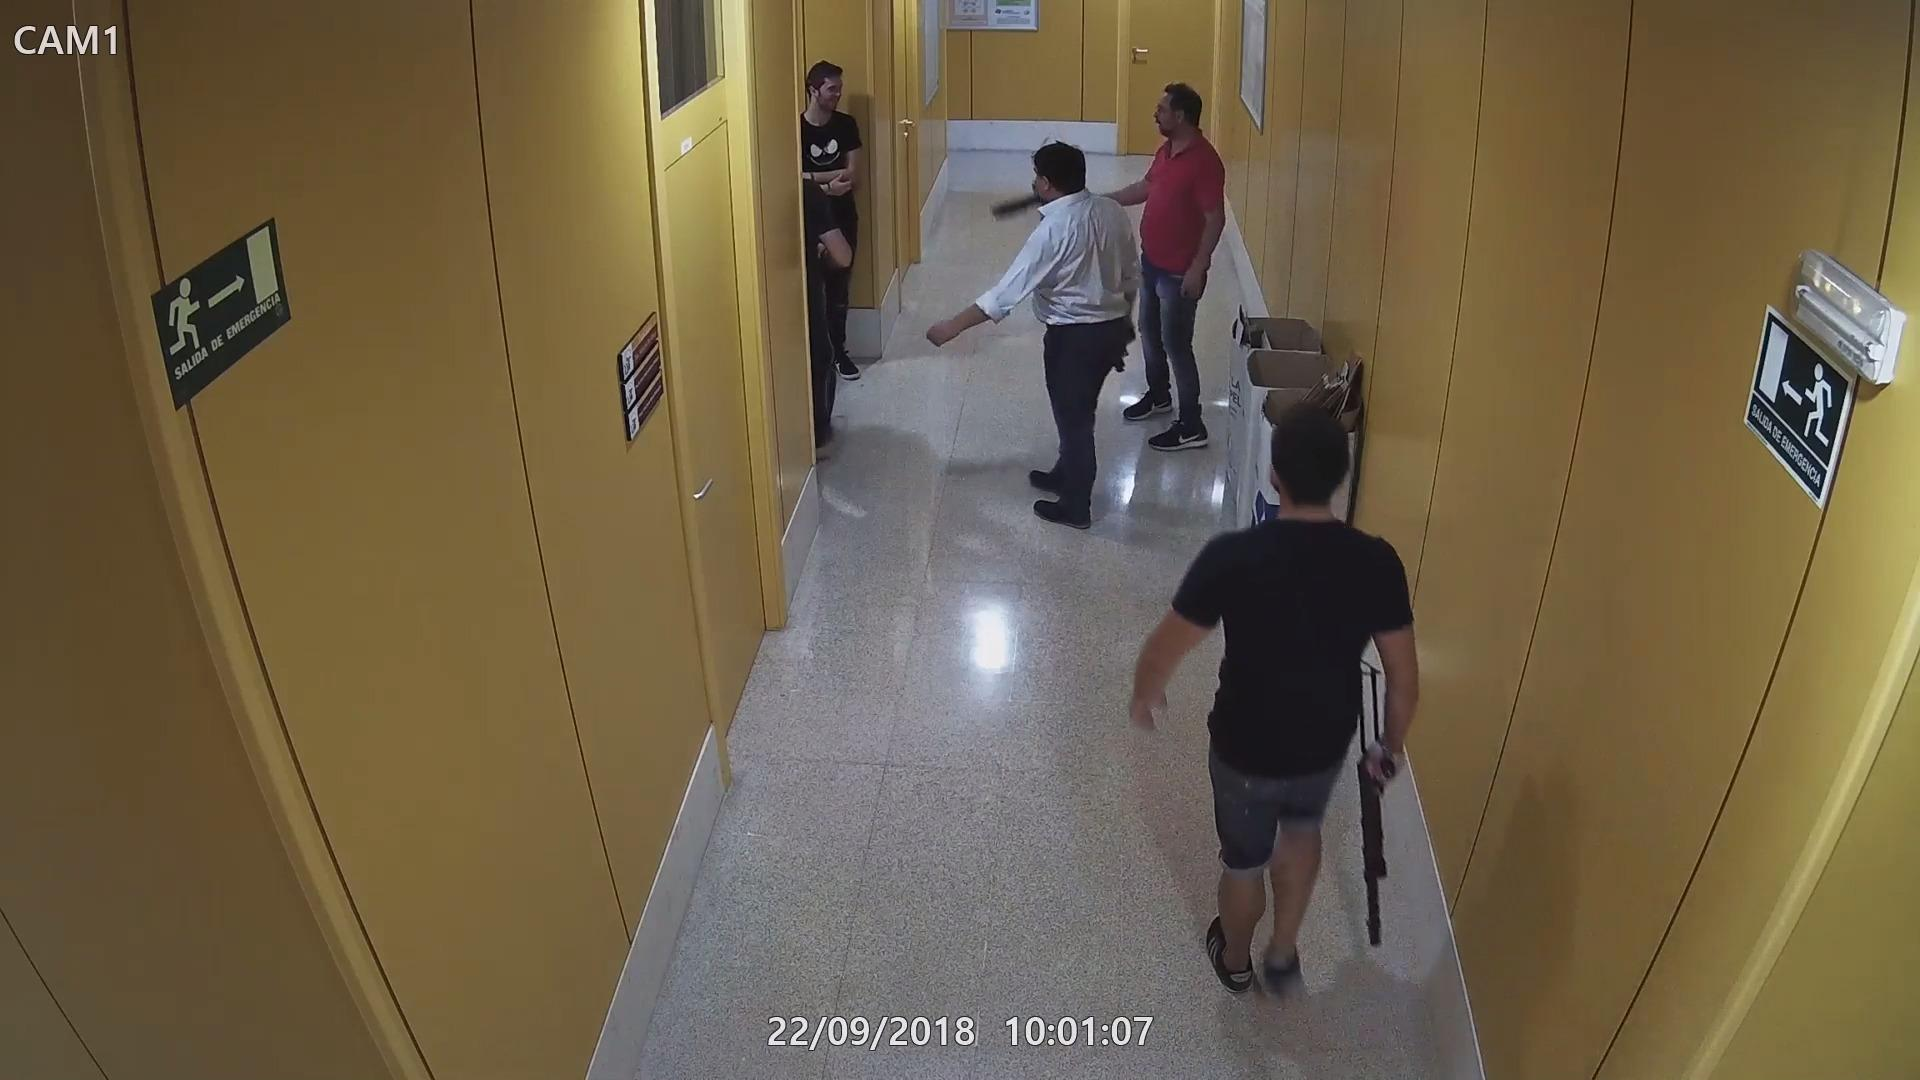Handgun: (1113, 324, 1139, 369)
